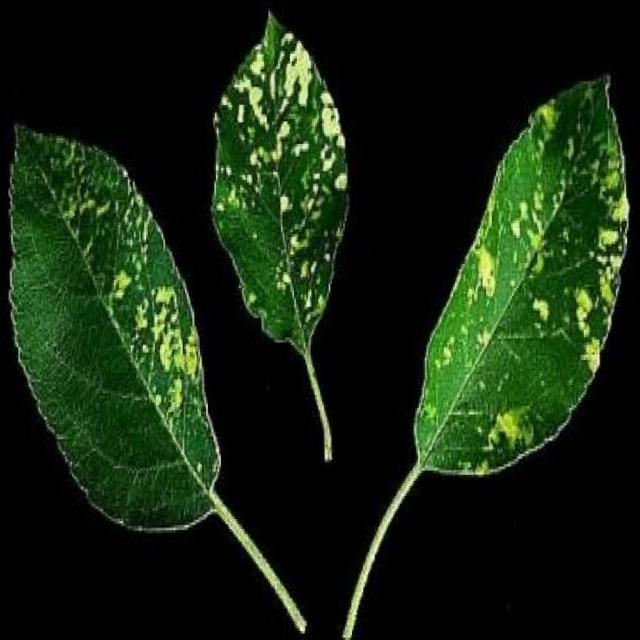Mosaic Virus: (422, 72, 624, 520), (8, 130, 216, 528), (212, 17, 354, 356)
